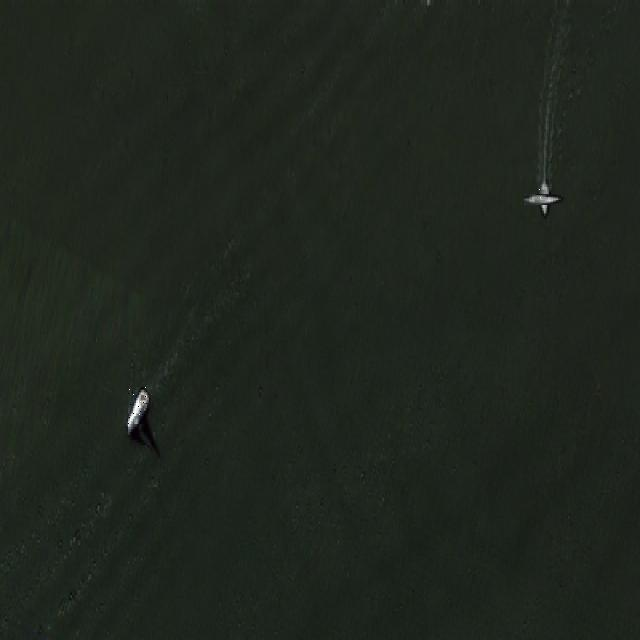boat: (126, 387, 150, 440), (531, 186, 557, 212)
